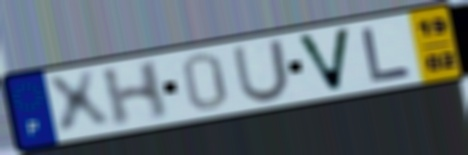0: (179, 51, 231, 114)
H: (99, 57, 171, 130)
L: (358, 24, 415, 85)
U: (230, 36, 293, 105)
V: (293, 26, 354, 94)
X: (42, 68, 116, 139)
